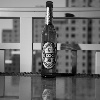beer: (43, 1, 62, 88)
